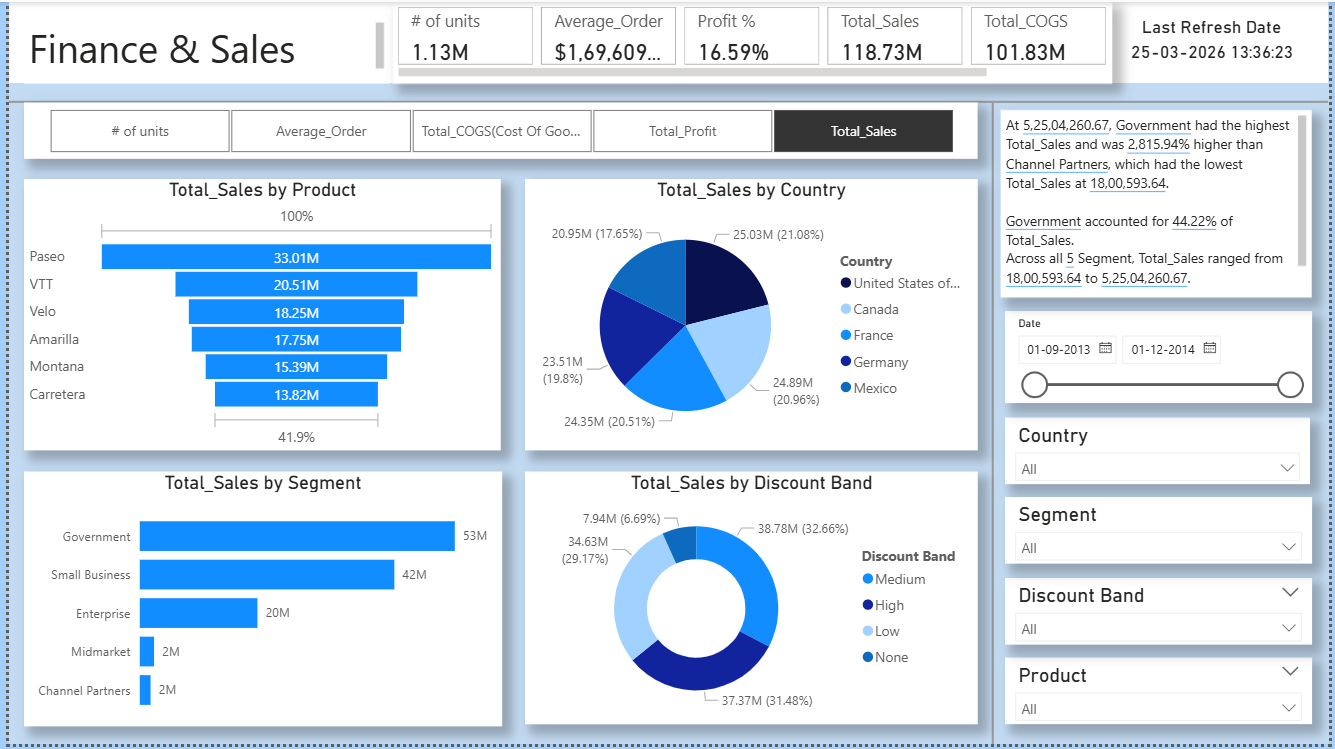

What the dashboard file says about the page in this screenshot:
{"tool":"powerbi","page":{"name":"Main Page","canvas":[1280,720],"ordinal":0},"visuals":[{"type":"shape","box":[0,0,1280,78.6],"z":0},{"type":"shape","box":[937.7,97.2,34.4,623.8],"z":2000},{"type":"textbox","box":[14.2,14.2,354.4,64.8],"z":3000},{"type":"card","title":"Last Refresh Date","fields":{"Values":["Min(LastRefreshDate.LastRefresh)"]},"box":[1070.4,15.1,194.5,48.4],"z":4000},{"type":"cardVisual","fields":{"Data":["financials.# of units","financials.Average_Order","financials.Profit %","financials.Total_Sales","financials.Total_COGS(Cost Of Goods Sold)","financials.Total_Profit"]},"box":[372.4,0,697.9,79.3],"z":4001},{"type":"funnel","fields":{"Category":["financials.Product"],"Y":["financials.Total_Sales"]},"box":[14.6,171.8,462.9,263.5],"z":4002},{"type":"barChart","fields":{"Category":["financials.Segment"],"Y":["financials.Total_Sales"]},"box":[14.2,455.7,463.8,247.1],"z":4003},{"type":"donutChart","fields":{"Category":["financials.Discount Band"],"Y":["financials.Total_Sales"]},"box":[500.3,455.7,439.5,245.1],"z":4004},{"type":"pieChart","fields":{"Category":["financials.Country"],"Y":["financials.Total_Sales"]},"box":[500.7,171.8,439.6,263.5],"z":4005},{"type":"shape","box":[0,88.6,1280,16.1],"z":4006},{"type":"slicer","fields":{"Values":["financials.Product"]},"box":[966.1,635.9,297.7,64.8],"z":4007},{"type":"slicer","fields":{"Values":["financials.Country"]},"box":[966.7,403.2,296.3,64.8],"z":4008},{"type":"slicer","fields":{"Values":["financials.Discount Band"]},"box":[966.1,559,297.7,64.8],"z":4010},{"type":"slicer","fields":{"Values":["financials.Date"]},"box":[966.1,299.7,297.7,89.1],"z":4011},{"type":"slicer","fields":{"Values":["financials.Segment"]},"box":[966.1,480,297.7,64.8],"z":4012},{"type":"slicer","fields":{"Values":["Parameter 2.Parameter"]},"box":[14.2,97.2,925.6,54.7],"z":4013},{"type":"textbox","box":[962,105.3,301.8,182.3],"z":4014}]}

Visuals, with their boxes in screenshot pixels (x1, y1, x2, y2), scaled from the page's 1280x720 canvas onto the 1335x749 screenshot:
shape: 0, 0, 1334, 82
shape: 978, 101, 1014, 748
textbox: 15, 15, 384, 82
"Last Refresh Date" card: 1116, 16, 1319, 66
cardVisual - financials.# of units x financials.Average_Order: 388, 0, 1116, 82
funnel - financials.Product x financials.Total_Sales: 15, 179, 498, 453
barChart - financials.Segment x financials.Total_Sales: 15, 474, 499, 731
donutChart - financials.Discount Band x financials.Total_Sales: 522, 474, 980, 729
pieChart - financials.Country x financials.Total_Sales: 522, 179, 981, 453
shape: 0, 92, 1334, 109
slicer - financials.Product: 1008, 662, 1318, 729
slicer - financials.Country: 1008, 419, 1317, 487
slicer - financials.Discount Band: 1008, 582, 1318, 649
slicer - financials.Date: 1008, 312, 1318, 404
slicer - financials.Segment: 1008, 499, 1318, 567
slicer - Parameter 2.Parameter: 15, 101, 980, 158
textbox: 1003, 110, 1318, 299
